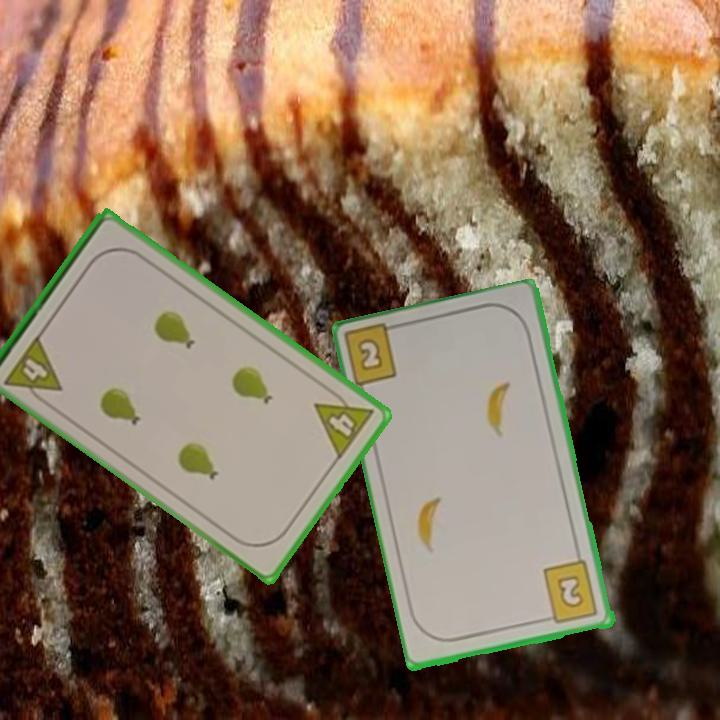2b: (344, 320, 407, 392), (540, 558, 601, 627)
4p: (310, 382, 378, 463), (1, 331, 65, 409)
